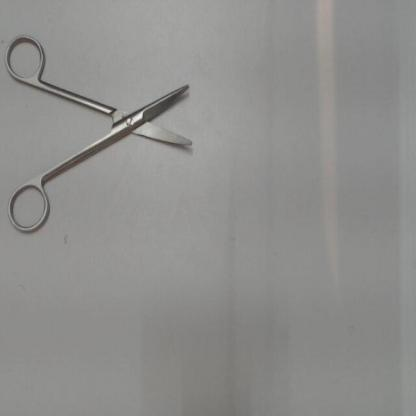Curved Mayo Scissors: (3, 27, 204, 241)
